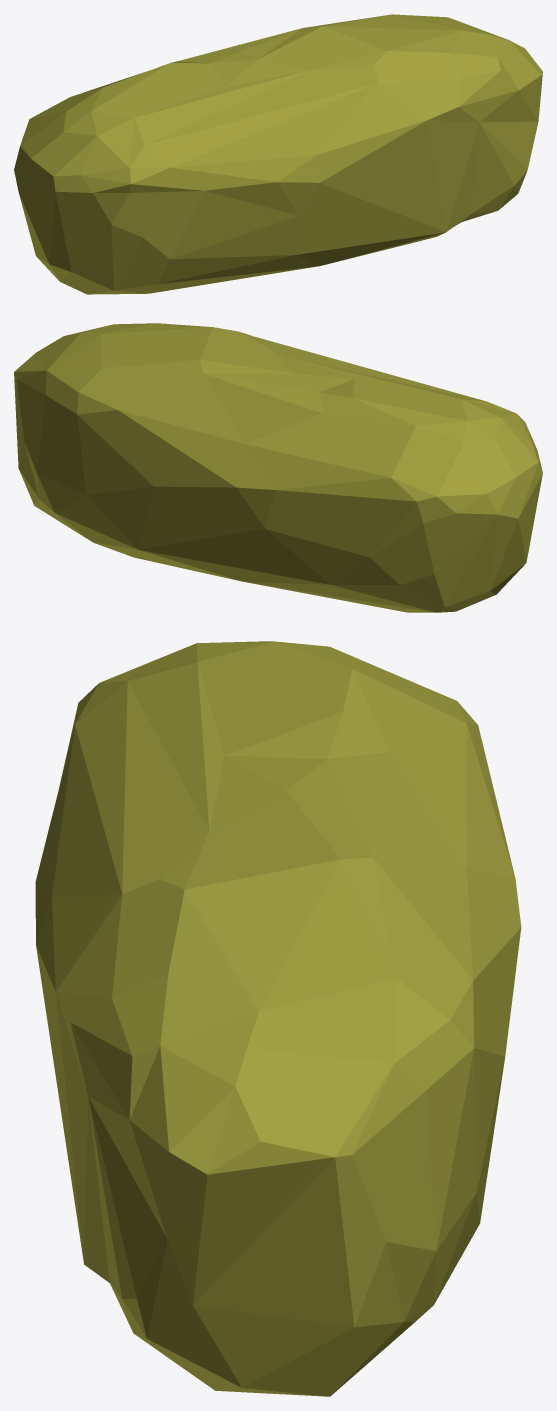
The model's file is fantasy_hedge_1.fbx.
The picture shows the model from 3 angles, top to bottom: view 1: azimuth 30°, elevation 25°; view 2: azimuth 150°, elevation 25°; view 3: azimuth 270°, elevation 25°; orthographic projection. The views are drawn at different scales.
Parts seen in each view (by area): view 1: Icosphere.006; view 2: Icosphere.006; view 3: Icosphere.006.
Part boxes in pixels (x1,y1,x2,y2): Icosphere.006: (14, 14, 542, 294); Icosphere.006: (14, 323, 542, 612); Icosphere.006: (35, 641, 521, 1396).
Size of the model in its own units: 183 by 70.99 by 77.52.
